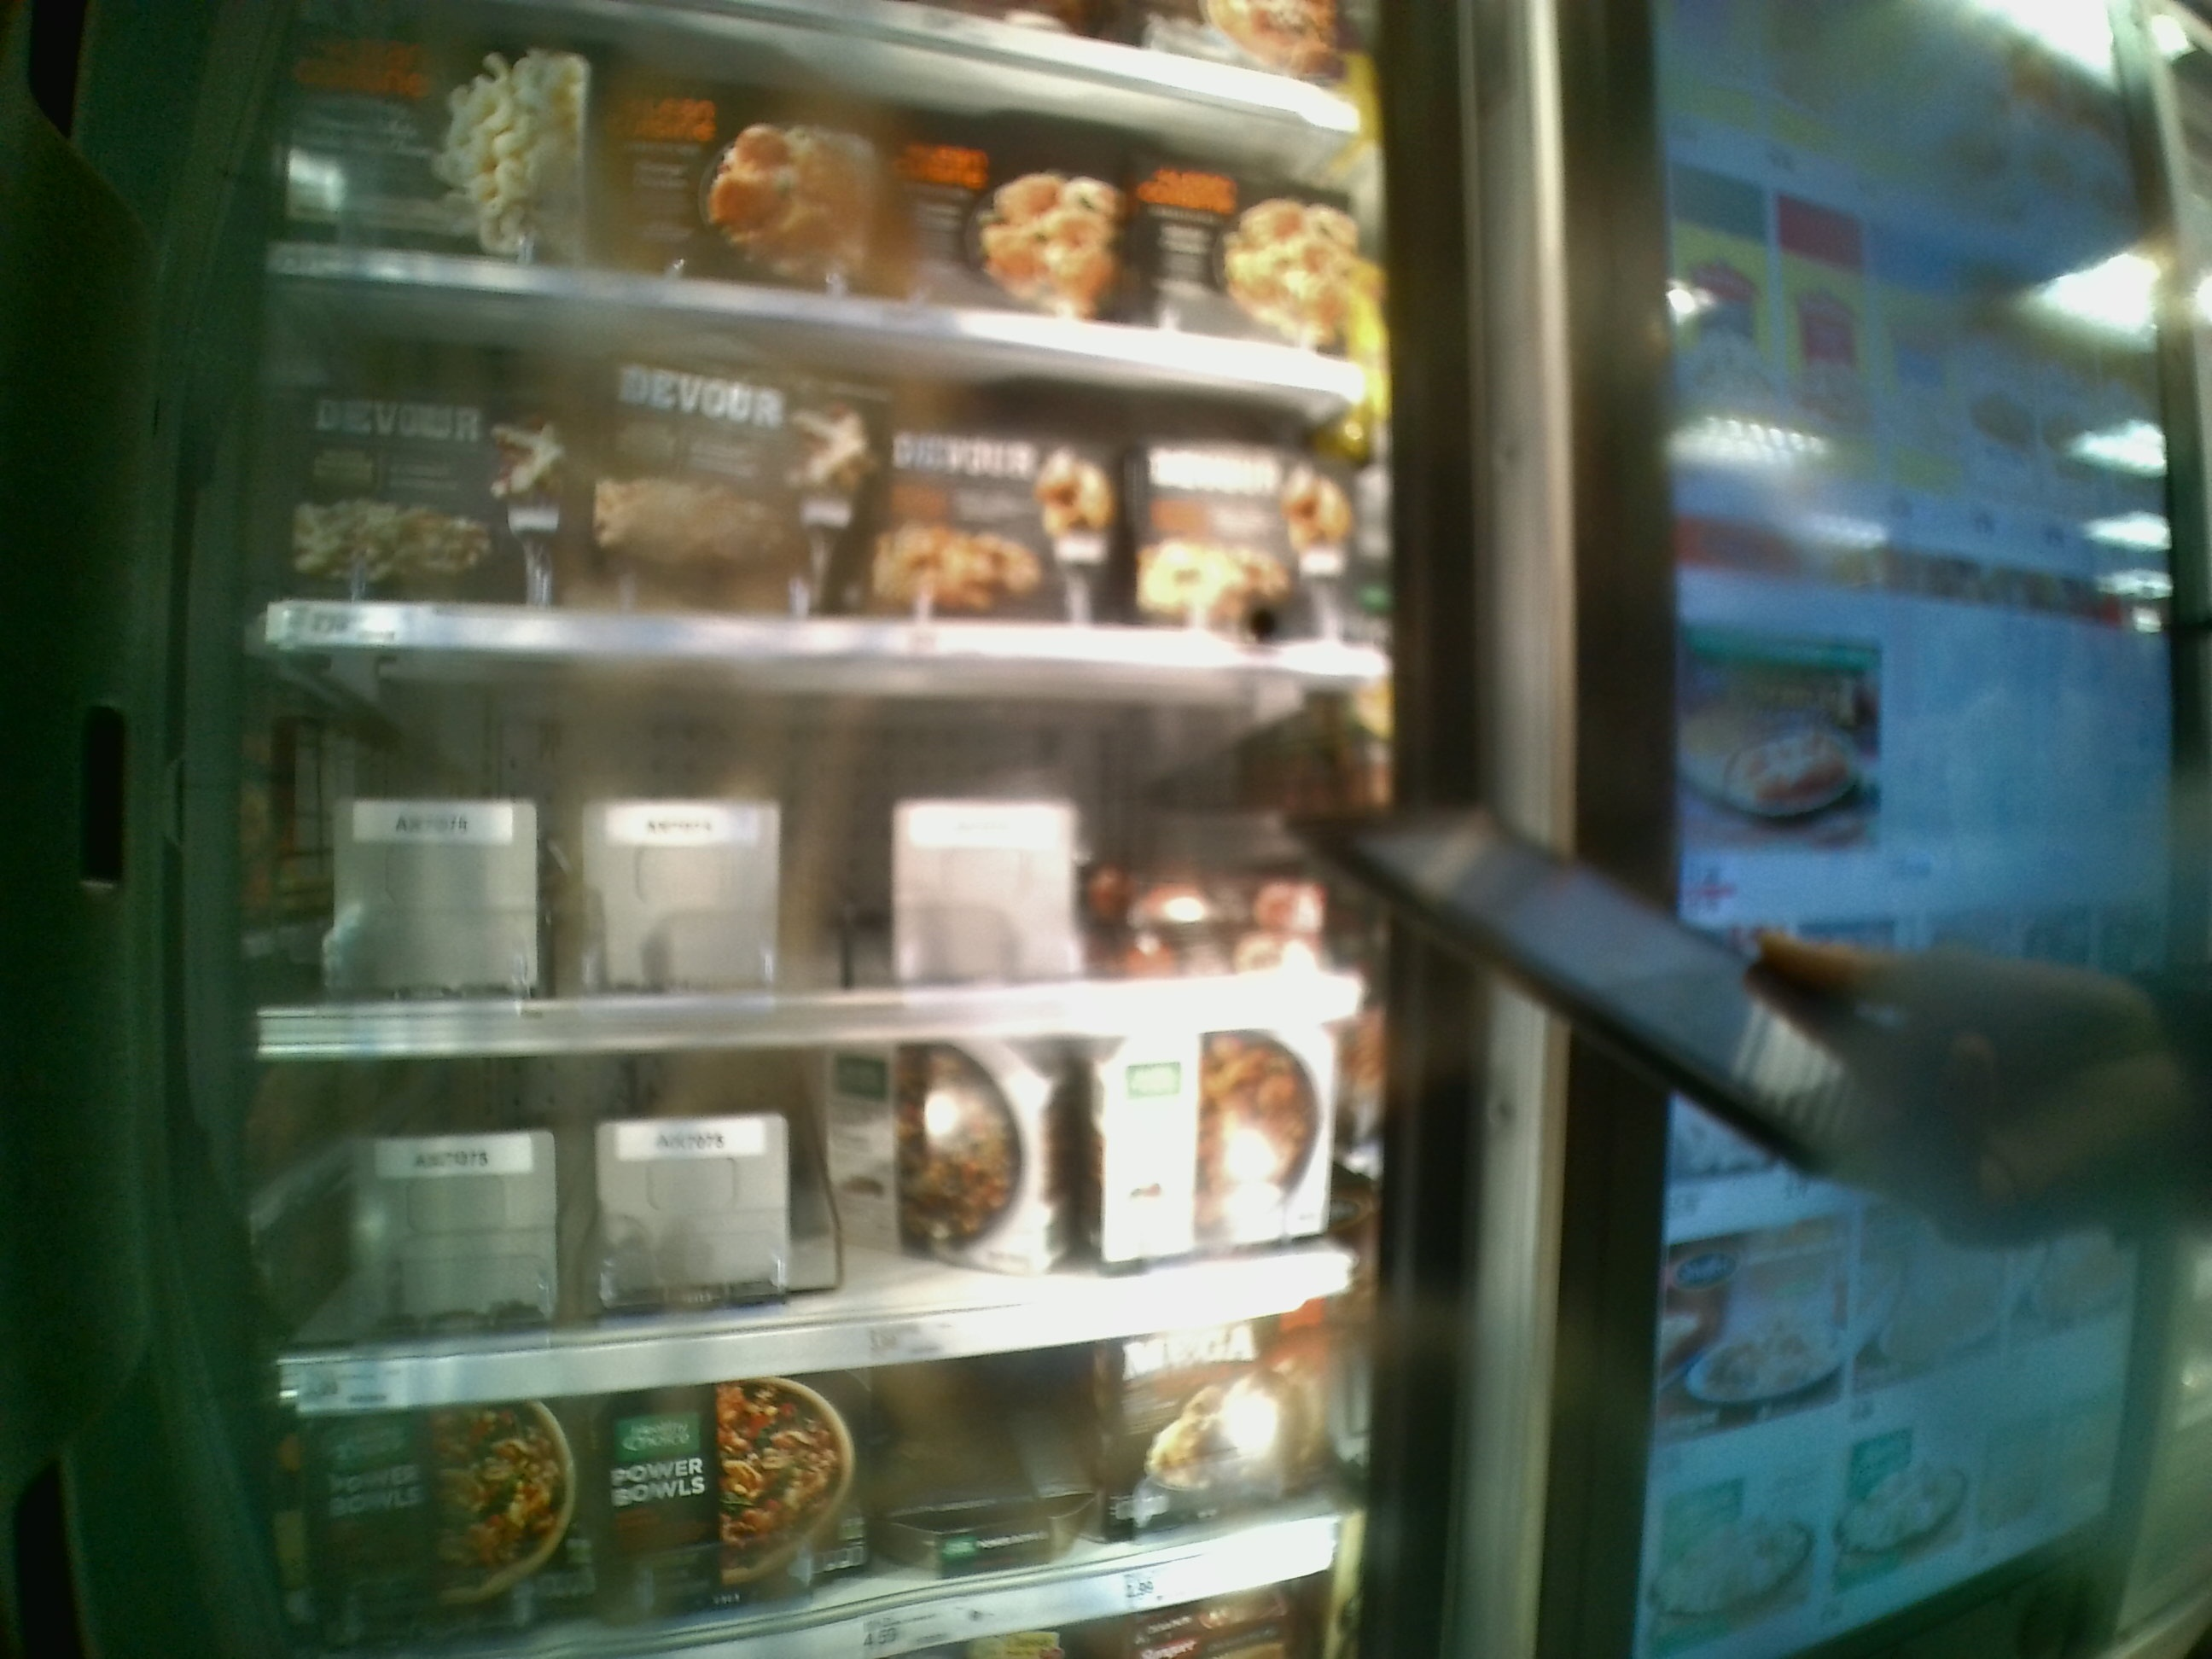shelf: (263, 1007, 1367, 1405)
